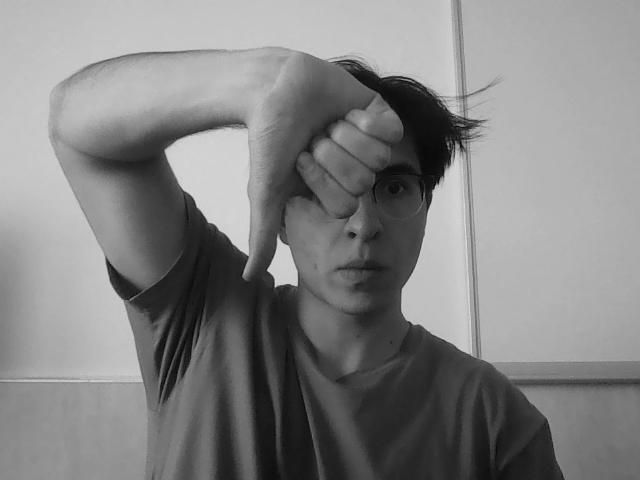bad: (251, 30, 411, 218)
